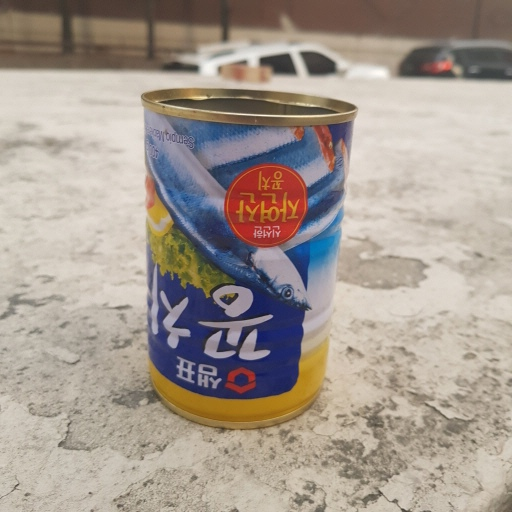Metal_1: (132, 82, 362, 435)
